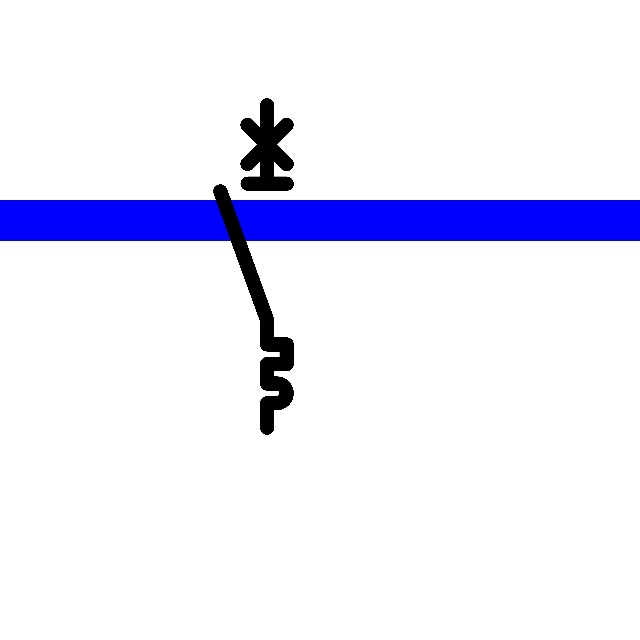interruptor_termomagnetico: (212, 97, 295, 436)
